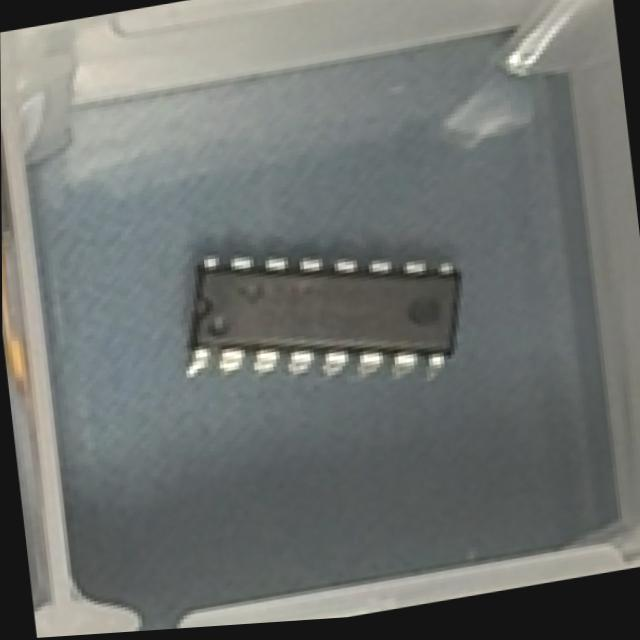IC: (167, 204, 472, 420)
